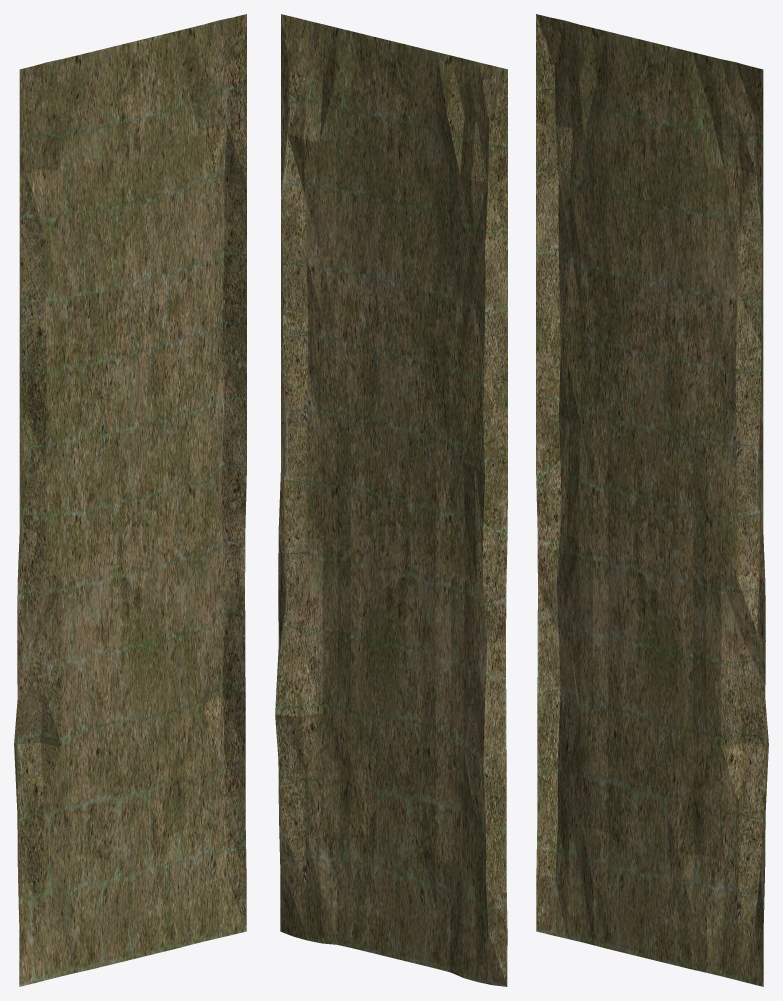
Rendered from ground3.dae.
3 views of the same model, side by side, from view 1: azimuth 30°, elevation 25°; view 2: azimuth 150°, elevation 25°; view 3: azimuth 330°, elevation 25° (orthographic).
Visible parts, largest first — view 1: Plane; view 2: Plane; view 3: Plane.
Part boxes in pixels (x1,y1,x2,y2): Plane: (14, 14, 246, 986); Plane: (275, 14, 507, 986); Plane: (536, 14, 768, 986).
Size of the model in its own units: 554 by 63.51 by 2130.
1 material, 1 textured.
